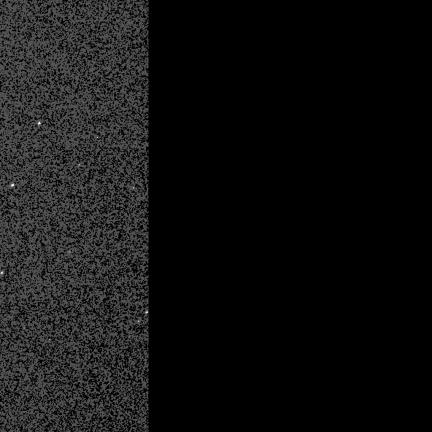blob: (38, 122, 42, 126), (0, 272, 4, 275), (11, 184, 14, 186)
